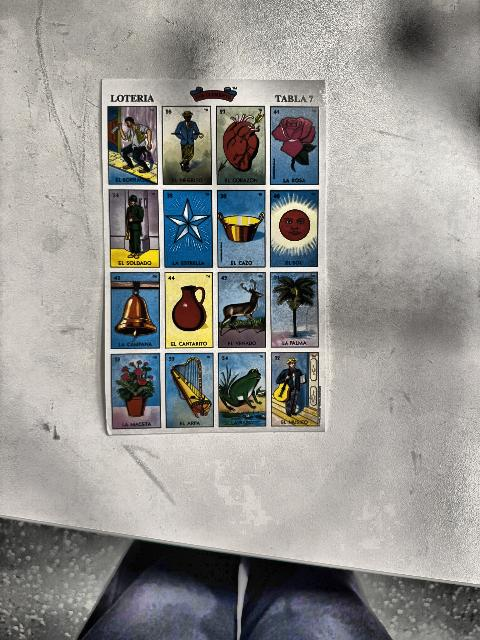El Arpa: (166, 354, 212, 426)
El Borracho: (108, 106, 158, 185)
El Cantarito: (165, 272, 213, 348)
El Cazo: (217, 191, 265, 267)
El Corazon: (217, 107, 265, 185)
El Musico: (272, 352, 318, 426)
El Negrito: (163, 107, 212, 185)
El Sol: (270, 190, 318, 266)
El Soldado: (110, 190, 160, 268)
El Venado: (218, 273, 266, 347)
La Campana: (111, 272, 159, 348)
La Estrella: (164, 190, 212, 268)
La Maceta: (111, 354, 161, 428)
La Palma: (272, 273, 318, 347)
La Rana: (218, 352, 266, 426)
La Rosa: (271, 107, 319, 185)
Tabla 7: (102, 81, 325, 435)
